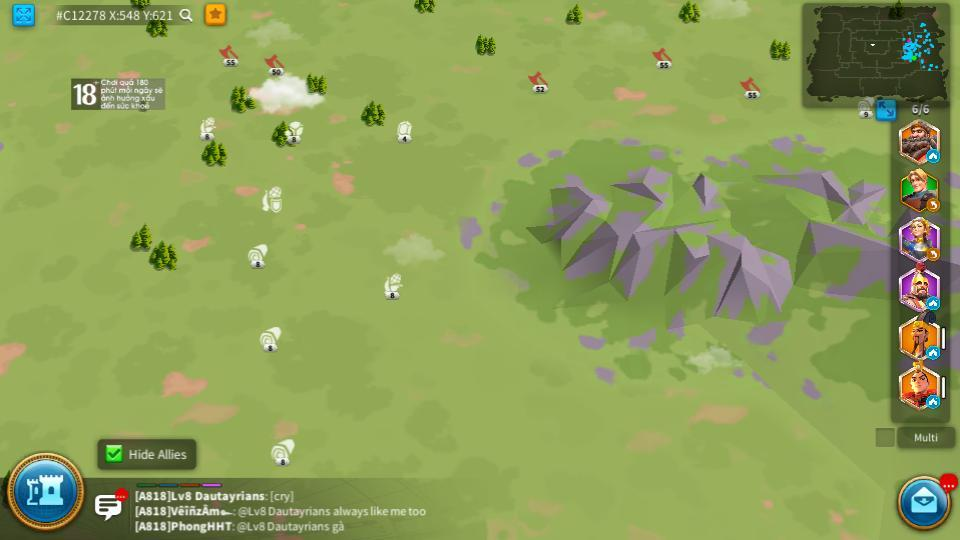gem-z-out: (394, 120, 413, 140)
march_idle: (926, 396, 941, 407), (926, 348, 940, 359), (926, 297, 940, 307), (927, 151, 939, 162)
march_returning: (926, 248, 941, 260), (927, 201, 940, 212)
